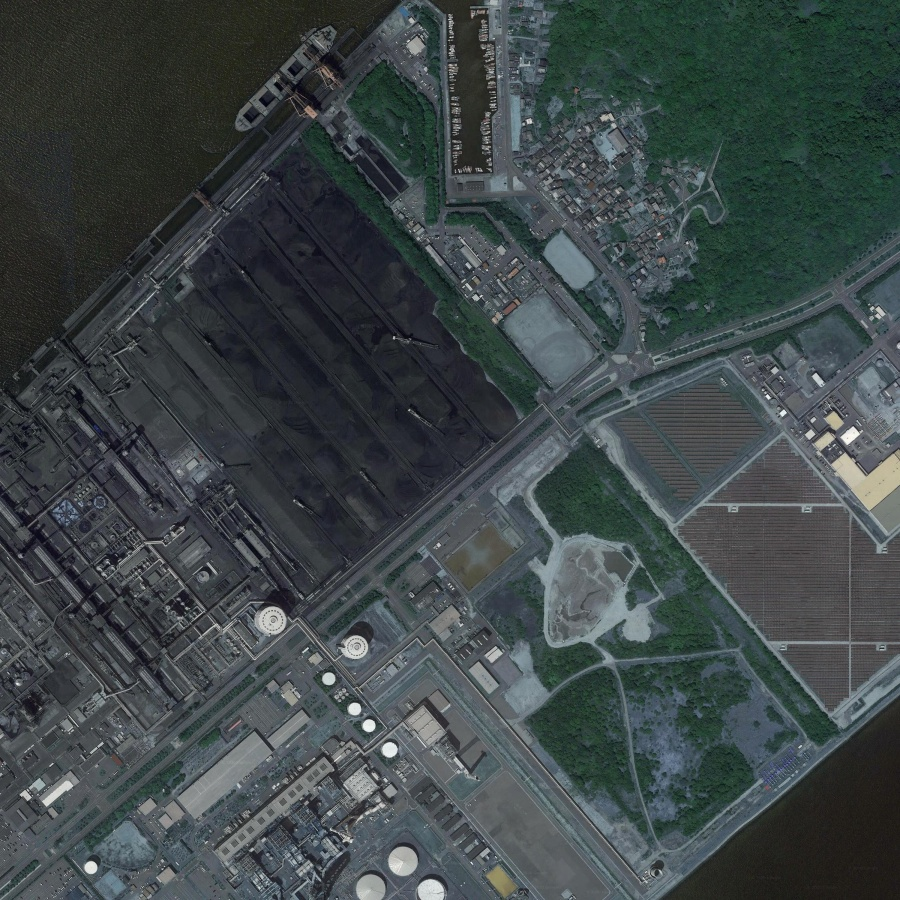PowerPlant: (146, 153, 532, 547)
